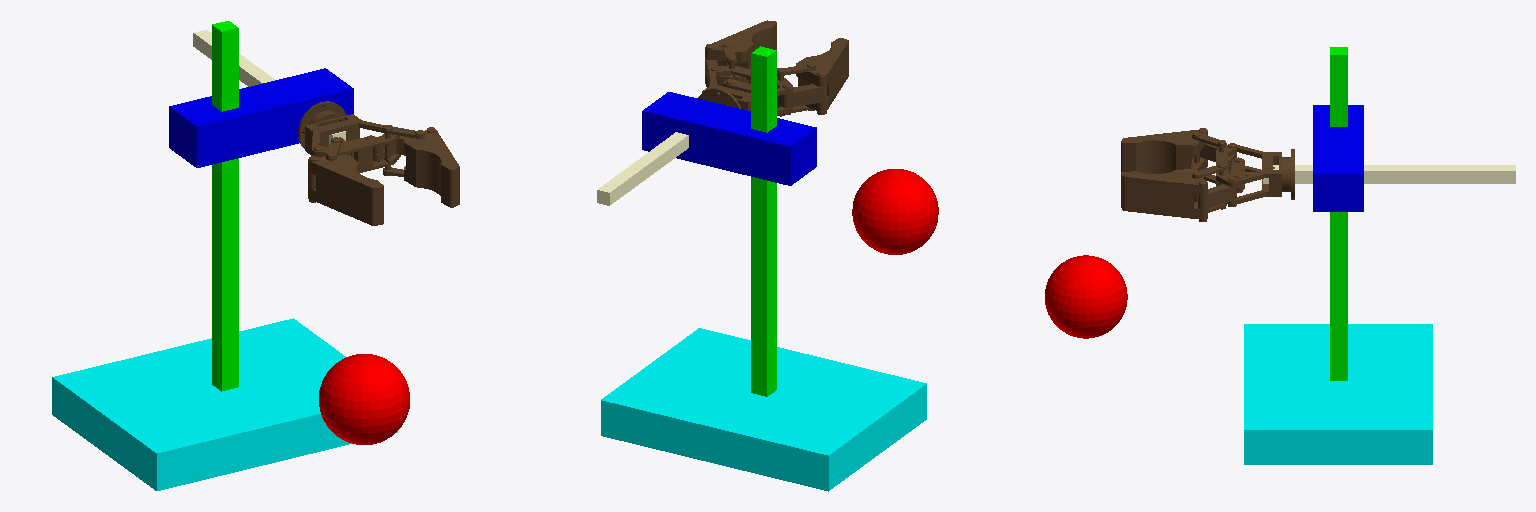
robot.urdf — myrobot:
<?xml version="1.0"?>
<robot name="myrobot">
<link name="incorporeal">
<inertial>
<origin xyz="0 0 0" rpy="0 0 0" />
<mass value ="0"/>
<inertia ixx="0" ixy="0" ixz="0" iyy="0" iyz="0" izz="0"/>
</inertial>
</link>
<link name="ball">
<visual>
<origin xyz="0 0 0" rpy="0 0 0"/>
<geometry> 
<sphere radius="0.33"/>
</geometry>
<material name="red">
<color rgba="1 0 0 1"/>
</material>
</visual>
<intertial>
<origin xyz="0 0 0" rpy="0 0 0" />
<mass value="1" />
<inertia ixx="100.0" iyy="100.0" izz="100.0" ixy="0.0" ixz="0.0" iyz="0.0" />
</intertial>
</link>
<link name="base">
<visual>
<origin xyz="0 0 0" rpy="0 0 0"/>
<geometry>
<box size="2 1.5 0.3"/>
</geometry>
<material name="cyan">
<color rgba="0 1 1 1"/>
</material>
</visual>
<inertial>
<origin xyz="0 0 0" rpy="0 0 0" />
<mass value ="10"/>
<inertia ixx="100" ixy="0" ixz="0" iyy="100" iyz="0" izz="100"/>
</inertial>
</link>
<link name="vertical_axis">
<visual>
<origin xyz="0 0 0" rpy="0 0 0" />
<geometry>
<box size="0.14 0.14 3"/>
</geometry>
<material name="green">
<color rgba="0 1 0 1"/>
</material>
</visual>
<inertial>
<origin xyz="0 0 0" rpy="0 0 0"/>
<mass value ="5"/>
<inertia ixx="100" ixy="0" ixz="0" iyy="100" iyz="0" izz="100"/>
</inertial>
</link>
<link name="block">
<visual>
<origin xyz="0 0 0" rpy="0 0 0" />
<geometry>
<box size="1.3 0.4 0.33"/>
</geometry>
<material name="blue">
<color rgba="0 0 1 1"/>
</material>
</visual>
<inertial>
<origin xyz="0 0 0" rpy="0 0 0"/>
<mass value ="2"/>
<inertia ixx="100" ixy="0" ixz="0" iyy="100" iyz="0" izz="100"/>
</inertial>
</link>
<link name="horizontal_axis">
<visual>
<origin xyz="0 0 0" rpy="1.5708 1.5708 0" />
<geometry>
<box size="0.11 0.11 2"/>
</geometry>
<material name="yellow">
<color rgba="1 0.99 0.82 1"/>
</material>
</visual>
<inertial>
<origin xyz="0 0 0" rpy="0 0 0"/>
<mass value ="2"/>
<inertia ixx="100" ixy="0" ixz="0" iyy="100" iyz="0" izz="100"/>
</inertial>
</link>
<link name="gripper">
<visual>
<origin xyz="2.15 0 0.35" rpy="0 0 0"/>
<geometry>
<mesh filename="package://myrobot_description/meshes/gripper.STL" scale = "0.005 0.005 0.005"/>
</geometry>
<material name="random">
<color rgba="0.4 0.3 0.2 1"/>
</material>
</visual>
<inertial>
<origin xyz="0 0 0" rpy="0 0 0"/>
<mass value ="1"/>
<inertia ixx="100" ixy="0" ixz="0" iyy="100" iyz="0" izz="100"/>
</inertial>
</link>
<joint name="immovable_connection" type="fixed">
<parent link="incorporeal"/>
<child link="base"/>
<origin xyz="0 0 0.15" rpy="0 0 0" />
<axis xyz="0 0 0"/>
<limit lower="0" upper="0" effort="0" velocity="0"/>
</joint>
<joint name="vertical_axis_movement" type="prismatic">
<parent link="base"/>
<child link="vertical_axis"/>
<origin xyz="0 0 1.5" rpy="0 0 0" />
<axis xyz="1 0 0"/>
<limit lower="-0.88" upper="0.88" effort="1000" velocity="0.5"/>
</joint>
<joint name="vertical_block_movement" type="prismatic">
<parent link="vertical_axis"/>
<child link="block"/>
<origin xyz="0.3 0 0.7" rpy="0 0 0" />
<axis xyz="0 0 1"/>
<limit lower="-1.635" upper="0.735" effort="1000" velocity="0.5"/>
</joint>
<joint name="horizontal_axis_movement" type="prismatic">
<parent link="block"/>
<child link="horizontal_axis"/>
<origin xyz="0.3 0.4 0" rpy="0 0 0" />
<axis xyz="0 1 0"/>
<limit lower="-2" upper="0.5" effort="1000" velocity="0.5"/>
</joint>
<joint name="gripper_connection" type="fixed">
<parent link="horizontal_axis"/>
<child link="gripper"/>
<origin xyz="-2.15 -0.4 0" rpy="1.5708 0 0" />
<axis xyz="0 0 0"/>
<limit lower="0" upper="0" effort="0" velocity="0"/>	
</joint>
<joint name="ball connection" type="fixed">
<parent link="incorporeal" />
<child link="ball" />
<origin xyz="0 -2 1" rpy="0 0 0" />
<axis xyz="0 0 0" />
<limit lower="0" upper="0" effort="0" velocity="0" />
</joint>
</robot>

--- Facts derived from the render (not from the file) ---
3 views of the same robot in one strip: view 1: azimuth 30°, elevation 25°; view 2: azimuth 150°, elevation 25°; view 3: azimuth 270°, elevation 25° (orthographic).
Model myrobot with 7 links and 6 joints (3 prismatic, 3 fixed), rooted at incorporeal, posed every joint at zero.
Visible links, largest first — view 1: base, gripper, block, vertical_axis, ball, horizontal_axis; view 2: base, block, vertical_axis, gripper, ball, horizontal_axis; view 3: base, gripper, ball, block, vertical_axis, horizontal_axis.
Link boxes in pixels (<box>): base: <box>52,318,397,490</box>; gripper: <box>298,101,459,225</box>; block: <box>169,68,353,167</box>; vertical_axis: <box>212,21,238,391</box>; ball: <box>319,354,409,444</box>; horizontal_axis: <box>193,30,345,144</box>; base: <box>601,328,926,491</box>; block: <box>642,92,816,185</box>; vertical_axis: <box>751,46,776,396</box>; gripper: <box>698,20,848,116</box>; ball: <box>852,169,938,254</box>; horizontal_axis: <box>597,132,688,205</box>; base: <box>1244,324,1432,464</box>; gripper: <box>1121,128,1294,221</box>; ball: <box>1045,255,1127,338</box>; block: <box>1313,105,1363,211</box>; vertical_axis: <box>1330,47,1347,380</box>; horizontal_axis: <box>1263,165,1515,183</box>.
Size in the robot's own frame: 2.13 by 3.73 by 3.15 metres.
1 mesh visuals loaded from 1 distinct referenced files (1 binary STL).